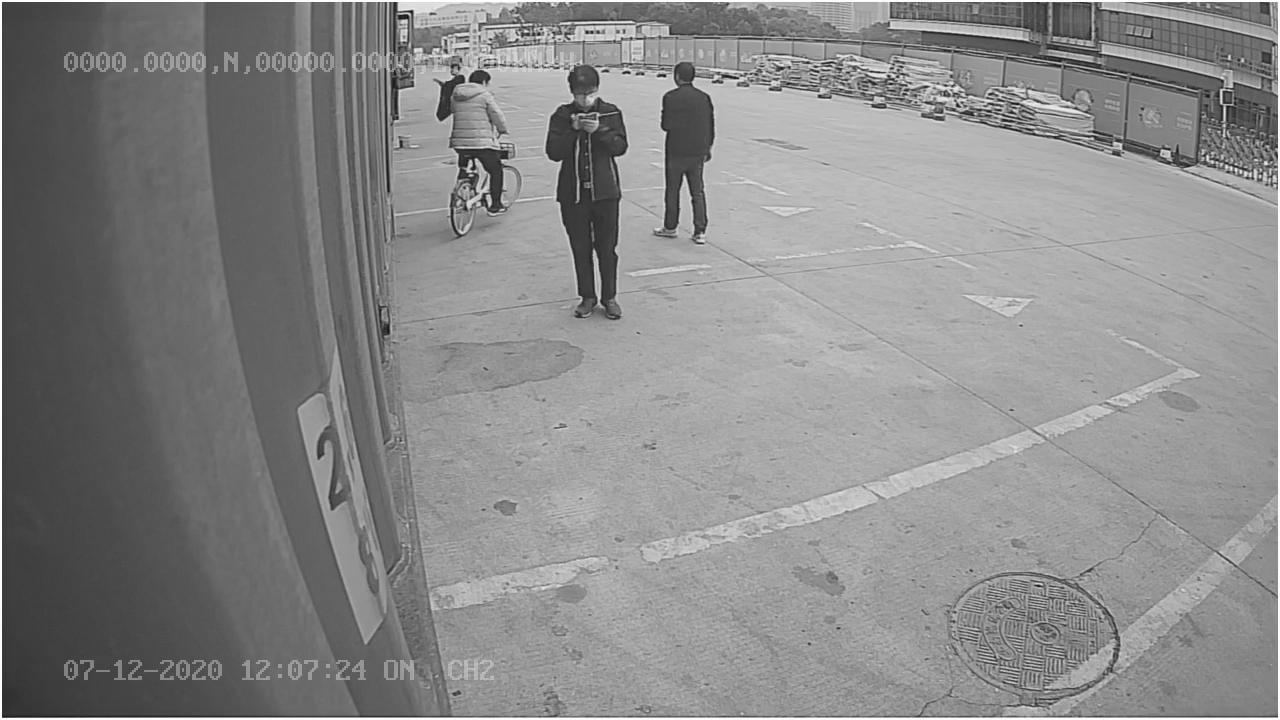person: (544, 58, 632, 325)
